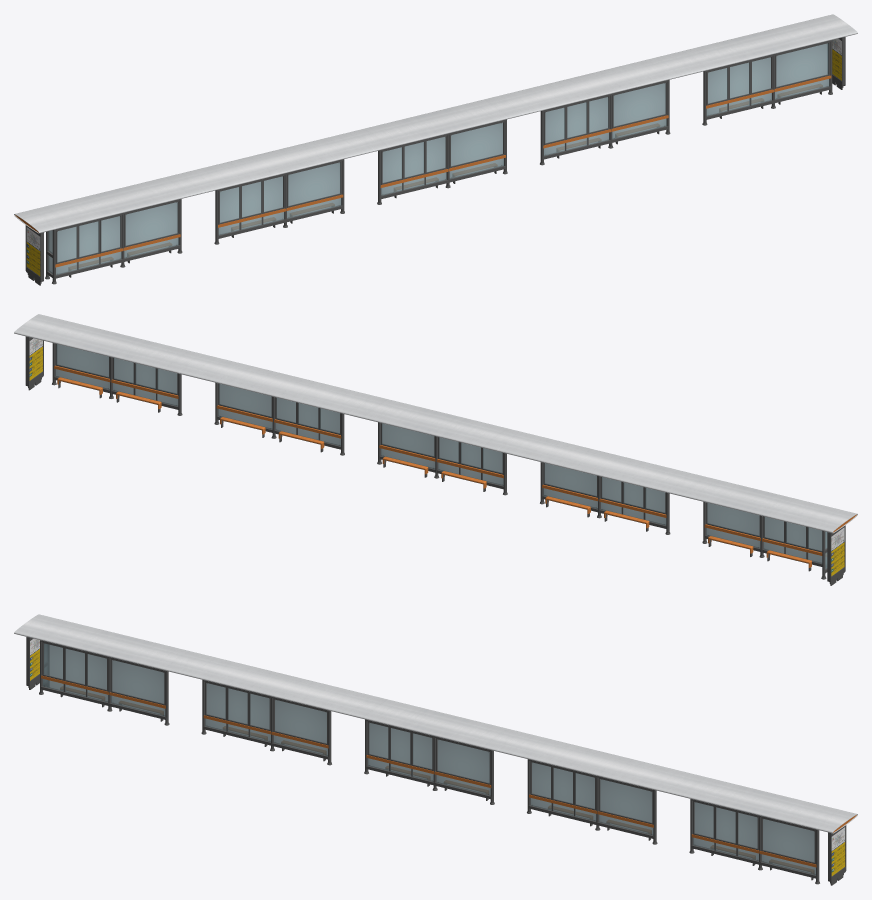
The model's file is Bus_Stop_2.fbx.
3 views of the same model, one above another, from view 1: azimuth 30°, elevation 25°; view 2: azimuth 150°, elevation 25°; view 3: azimuth 330°, elevation 25° (orthographic).
Parts seen in each view (by area): view 1: Bus_Stop_2; view 2: Bus_Stop_2; view 3: Bus_Stop_2.
Part boxes in pixels (bbox=[...]): Bus_Stop_2: bbox=[14, 14, 857, 285]; Bus_Stop_2: bbox=[14, 314, 857, 585]; Bus_Stop_2: bbox=[14, 614, 857, 885].
Size of the model in its own units: 37.5 by 2.7 by 2.
5 materials, 3 textured.
